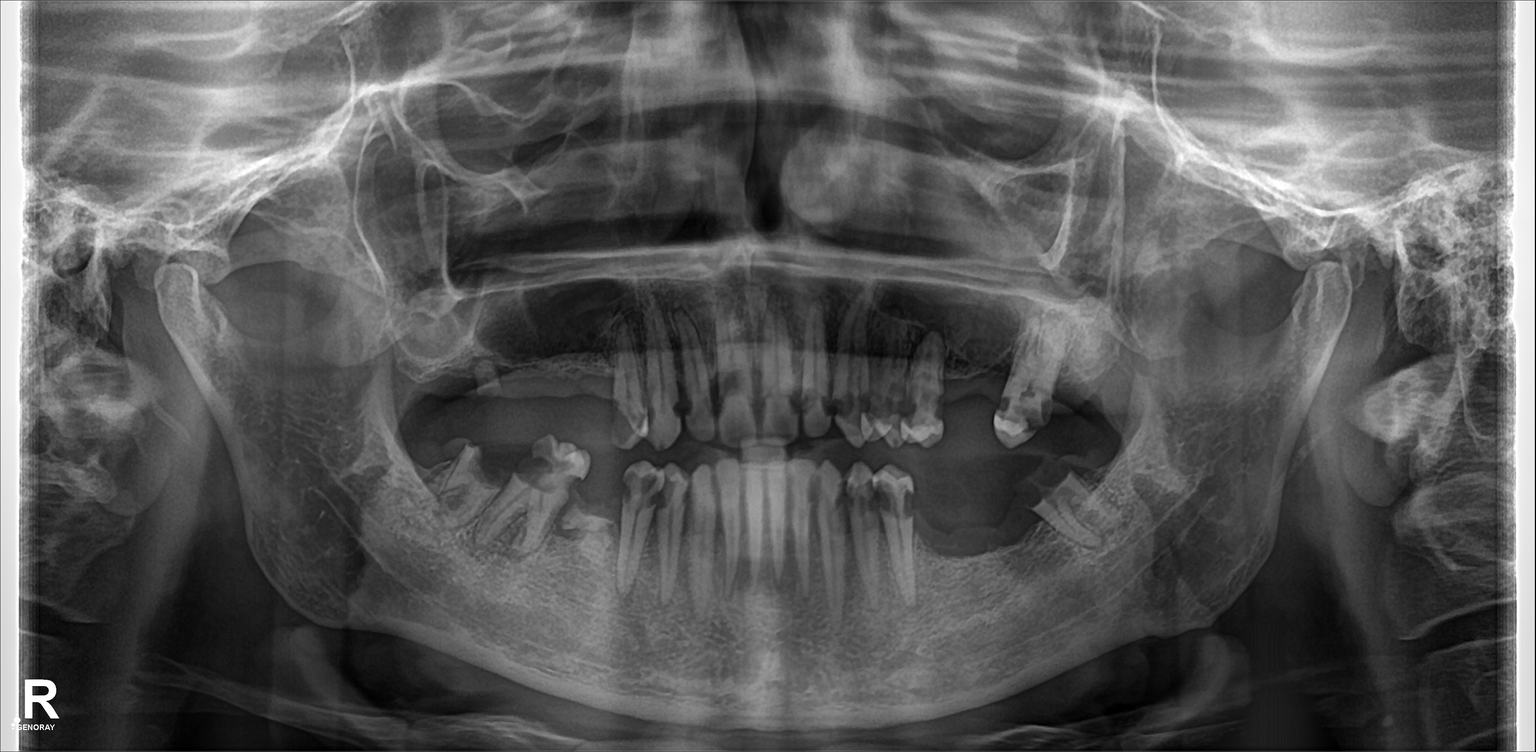Dental Caries: (520, 458, 563, 499), (626, 475, 676, 506), (609, 396, 636, 439), (879, 493, 916, 520), (818, 389, 852, 417), (894, 391, 928, 419), (849, 478, 876, 511), (857, 389, 882, 417), (726, 374, 754, 395), (994, 395, 1021, 410), (674, 387, 691, 410), (1035, 402, 1050, 419)
Impacted Third Molar: (1035, 480, 1123, 544)
Missing Tooth: (946, 346, 997, 432), (570, 344, 611, 439), (961, 478, 1004, 565), (922, 478, 958, 575), (425, 337, 468, 417), (1060, 367, 1098, 456), (395, 428, 435, 506), (523, 337, 563, 414), (1007, 482, 1026, 596)
Retained Root: (439, 430, 496, 521), (574, 463, 617, 557), (467, 346, 517, 414)
